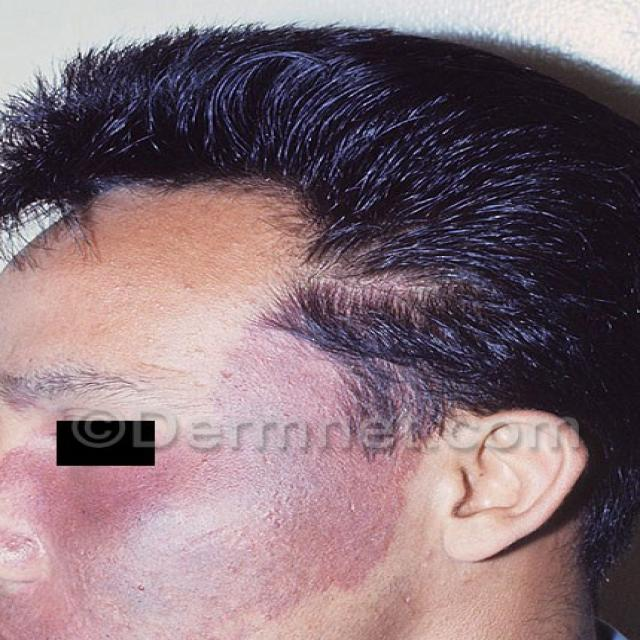Vascular Tumors: (59, 477, 370, 624), (224, 330, 426, 518)
